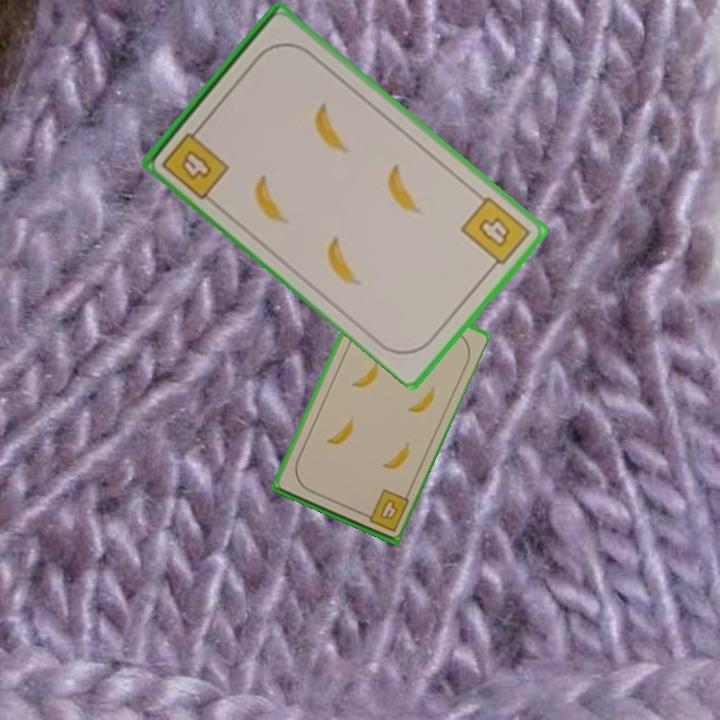4b: (457, 192, 534, 274), (158, 119, 233, 202), (357, 485, 411, 535)
